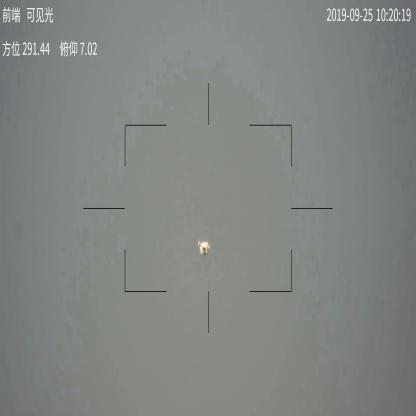uav: (195, 233, 212, 256)
